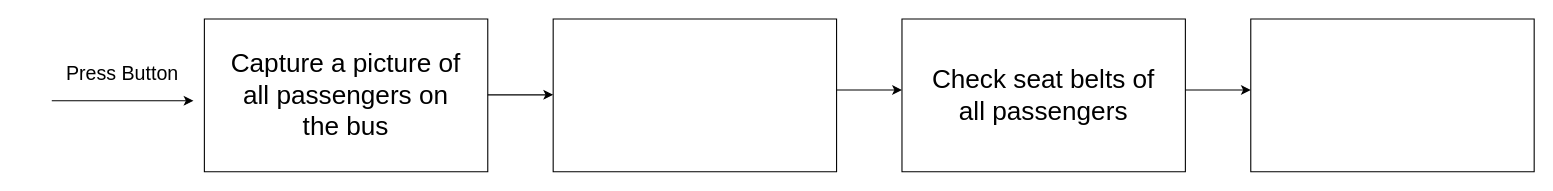
The diagram is 1553 pixels wide and 191 high, and some of its shapes have lost their labels. The box of each missing label's shape, as (x1, y1, x2, y2) in pixels:
Crop off each passenger in the general image into an individual image.: (552, 18, 837, 172)
Notify driver of results: (1250, 18, 1534, 172)
